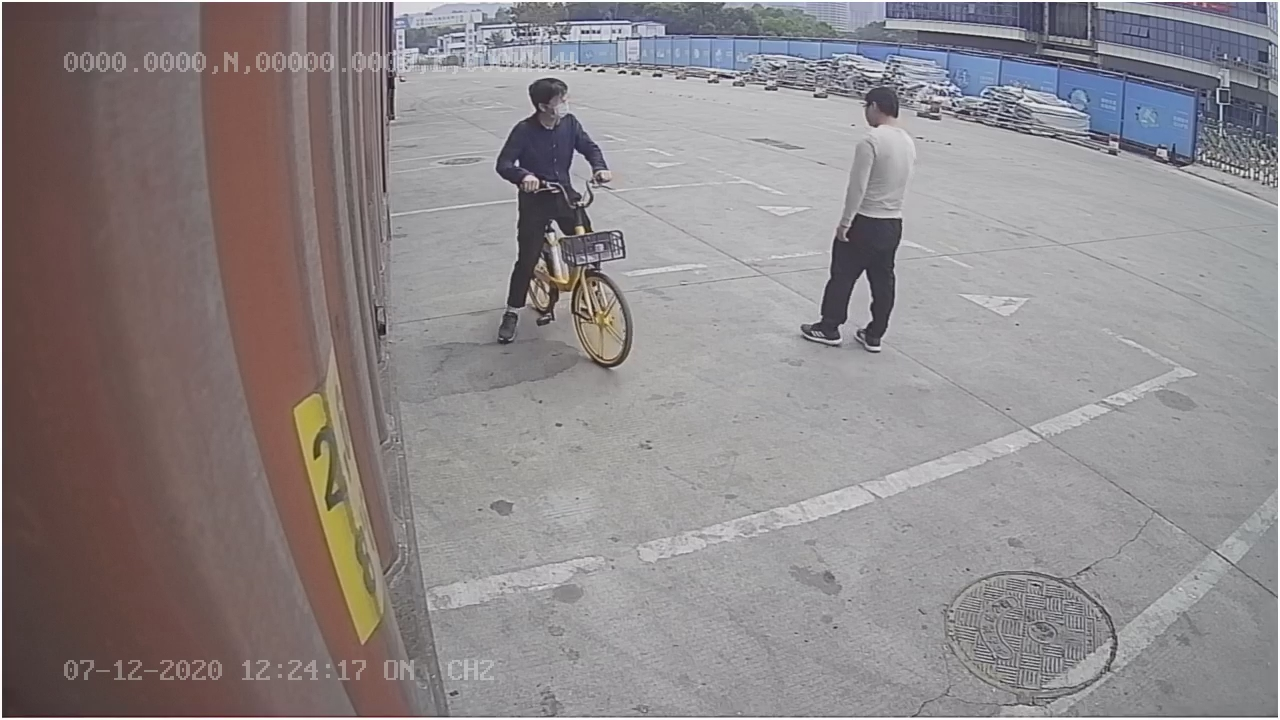person: (796, 84, 918, 354)
